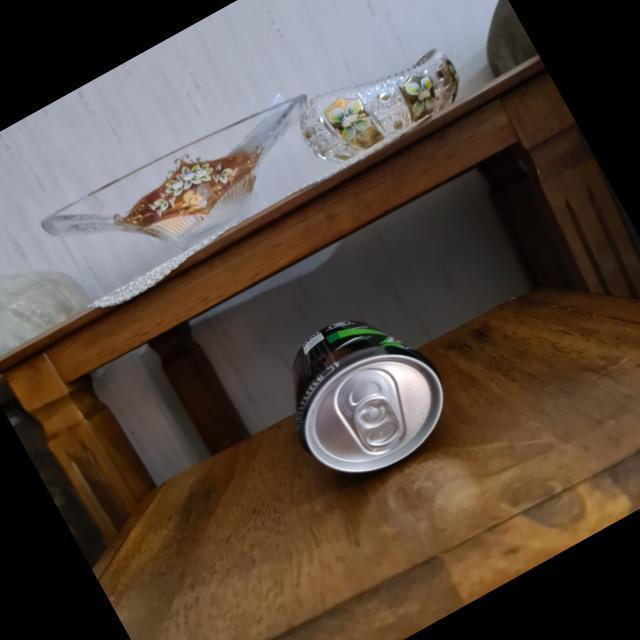can: (248, 280, 472, 502)
